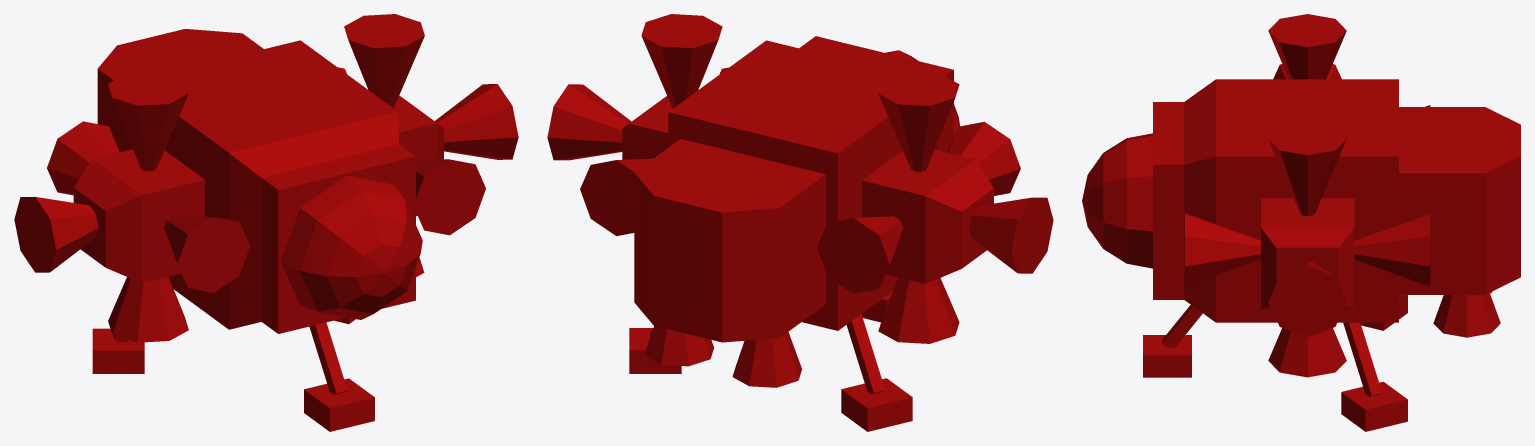
File: Ship Scale Ref.fbx
3 views of the same model, side by side, from view 1: azimuth 30°, elevation 25°; view 2: azimuth 150°, elevation 25°; view 3: azimuth 270°, elevation 25° (orthographic). The views are drawn at different scales.
Parts seen in each view (by area): view 1: Ship; view 2: Ship; view 3: Ship.
Boxes of the visible parts, box(x1,y1,x2,y2) form: Ship: box(14, 14, 518, 431); Ship: box(547, 14, 1053, 431); Ship: box(1082, 14, 1520, 431).
Size of the model in its own units: 16.42 by 10.25 by 14.38.
